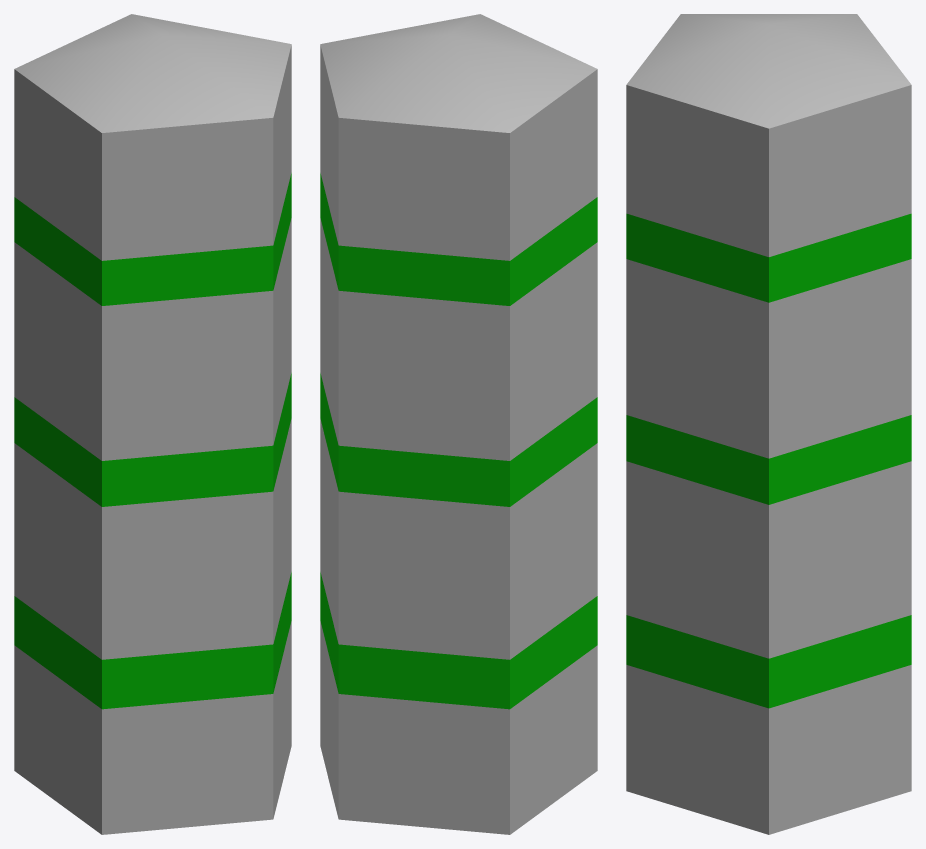
File: Arch_Side.fbx
3 renders of one model, left to right at view 1: azimuth 30°, elevation 25°; view 2: azimuth 150°, elevation 25°; view 3: azimuth 270°, elevation 25°, orthographic.
Visible parts, largest first — view 1: pCylinder2; view 2: pCylinder2; view 3: pCylinder2.
Boxes of the visible parts, left/top/right/bottom form: pCylinder2: left=14, top=14, right=291, bottom=834; pCylinder2: left=320, top=14, right=597, bottom=834; pCylinder2: left=626, top=14, right=911, bottom=834.
Bounding box in the file's own units: 2.67 × 8.11 × 2.81.
